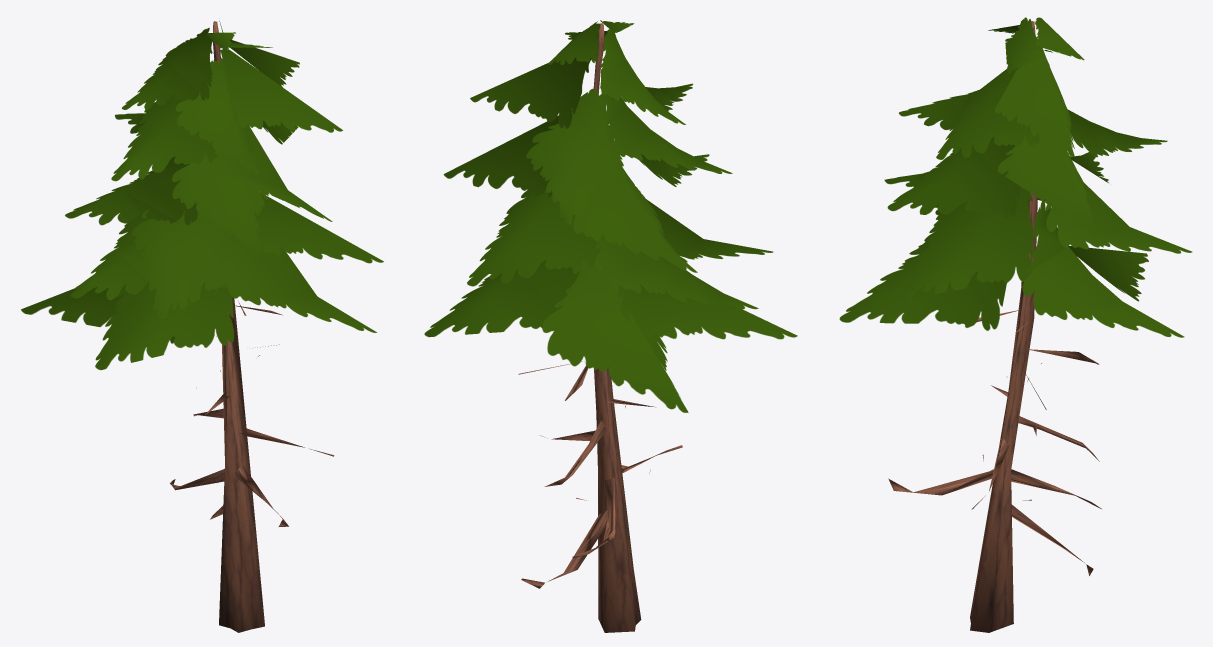
Rendered from spruce-3-far.glb.
3 renders of one model, left to right at view 1: azimuth 30°, elevation 25°; view 2: azimuth 150°, elevation 25°; view 3: azimuth 270°, elevation 25°, orthographic. The views are drawn at different scales.
Visible parts, largest first — view 1: Pine_3; view 2: Pine_3; view 3: Pine_3.
Part boxes in pixels (box(x1,y1,x2,y2)): Pine_3: box(21, 20, 383, 632); Pine_3: box(424, 20, 797, 632); Pine_3: box(839, 17, 1192, 632).
Bounding box in the file's own units: 3.61 × 7.32 × 4.
2 materials, 2 textured.
